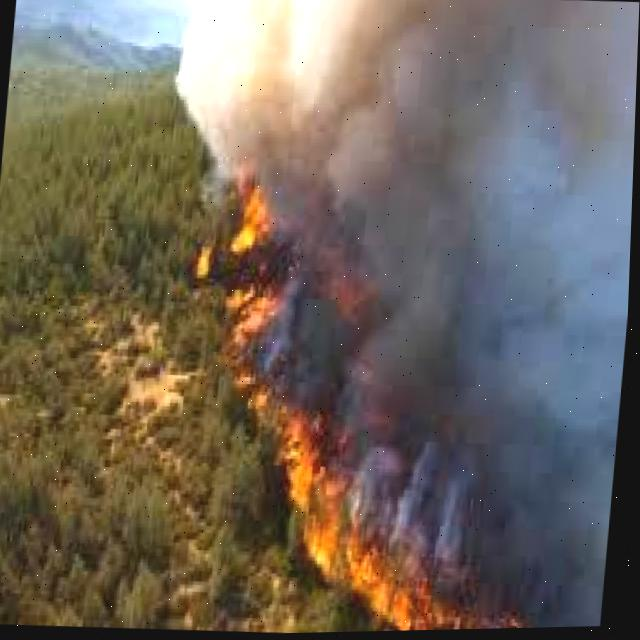fire: (287, 414, 460, 633), (218, 193, 292, 400)
smoke: (315, 193, 634, 531), (176, 0, 640, 192)
